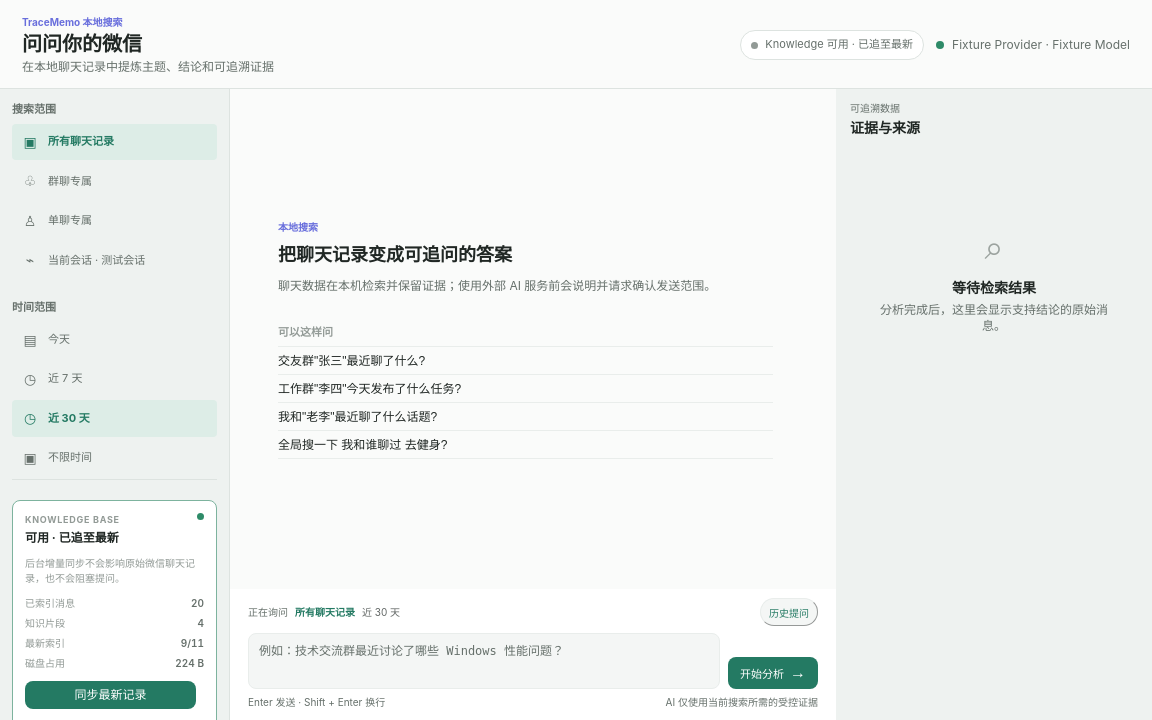
it: AISearchWorkspace — Query Agent 主路径 › Query Agent 关闭时仍走 Legacy 检索（可回退）
Type "我和测试会话最近聊了什么" into the text box.
click(484, 661); type("我和测试会话最近聊了什么")  # box [248,633,720,689]
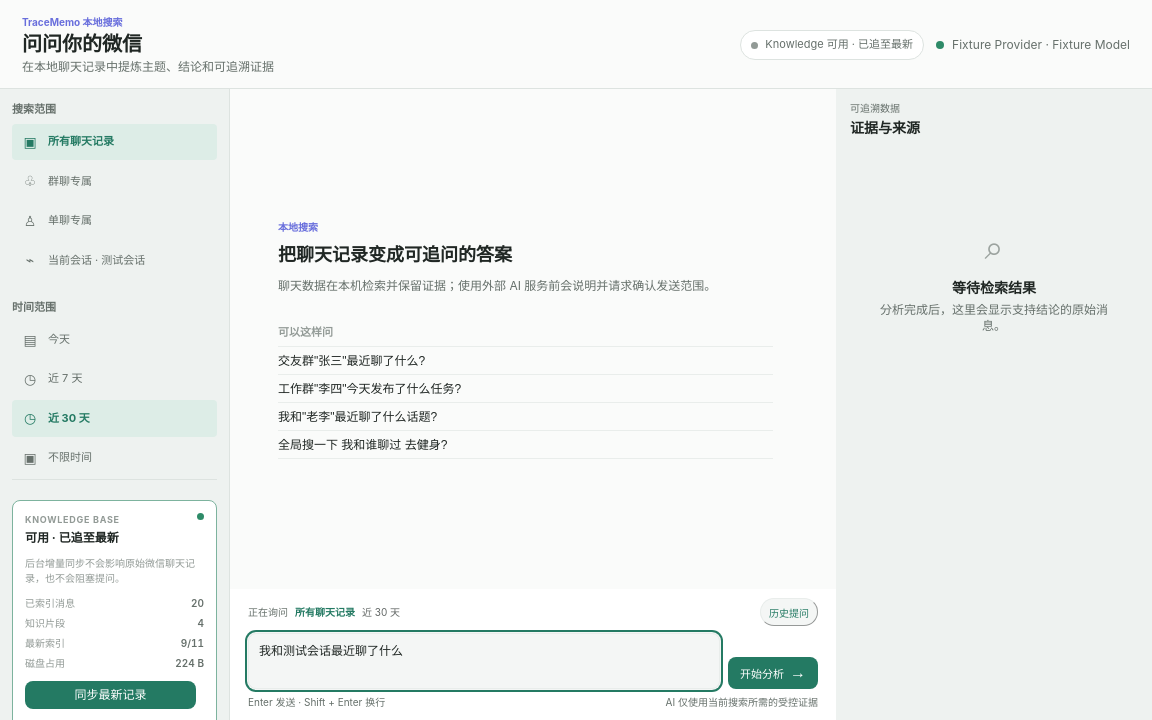
Click the button "开始分析 →".
click(773, 673)  # box [728,657,818,689]
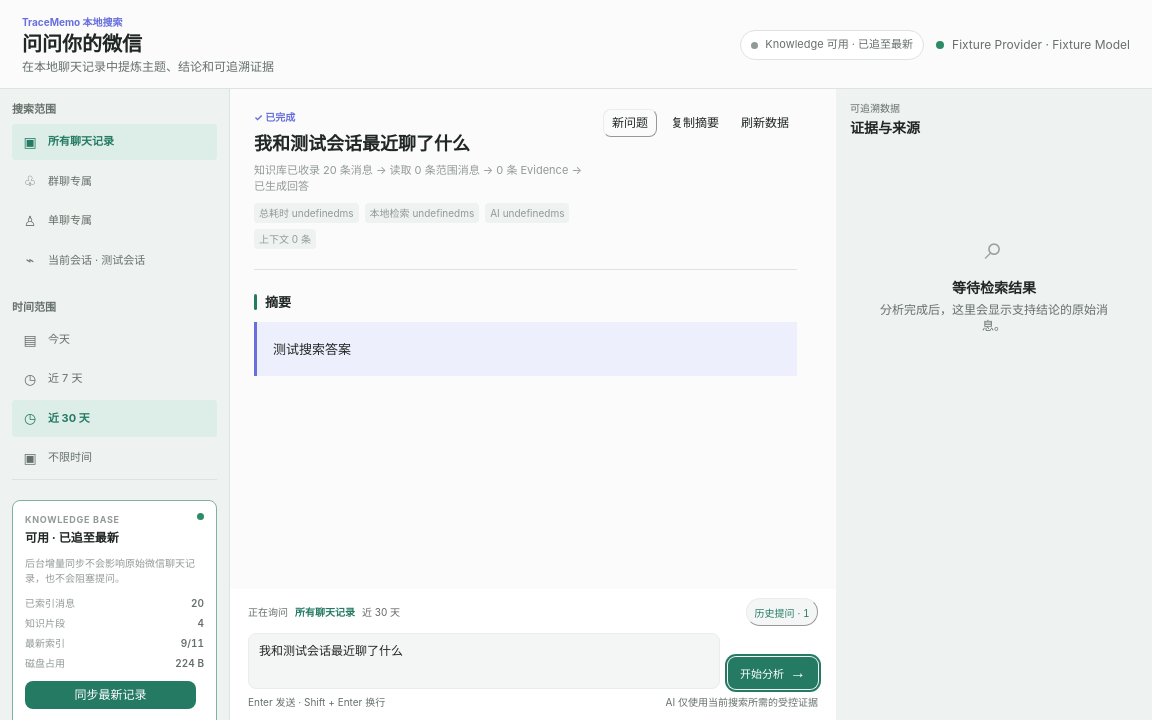
Expected: the text "测试搜索答案" is shown, [273,341,351,357]
